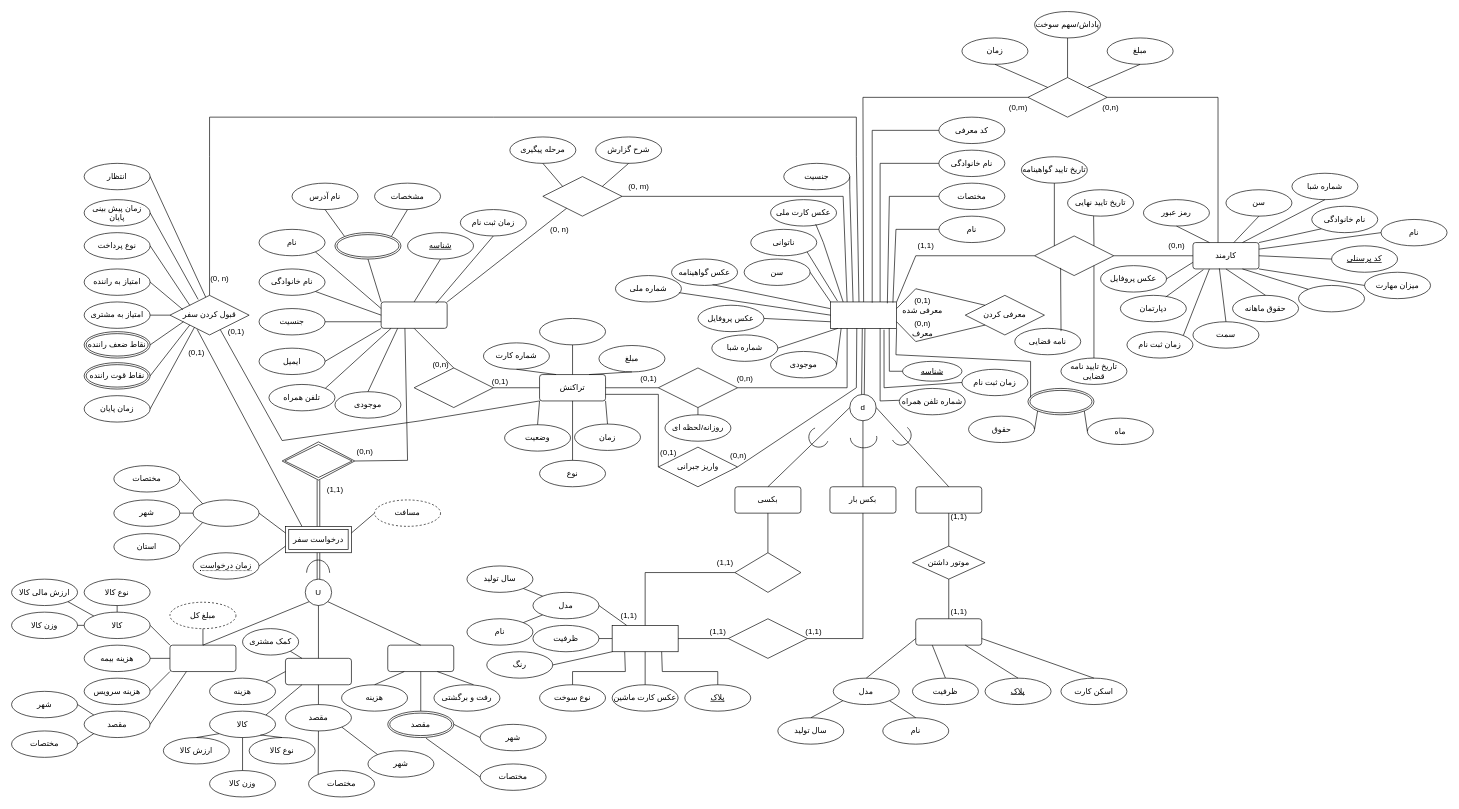
Some shapes in this 1459 by 809 pixel diagram are drawn without their labels. The shapes that lost their labels are listed below. From the top down, each one's centre as x and y in pixels, then its label:
(1067,97): واریز از شرکت
(582,196): گزارش دادن
(367,245): آدرس
(1074,255): تایید کردن
(413,314): مشتری
(863,314): راننده
(1331,298): مدرک تحصیلی
(572,331): کد رهگیری
(453,387): واریز کردن
(698,387): برداشت کردن
(1060,401): حقوق ماهیانه
(318,460): درخواست دادن
(225,512): مبدا
(948,499): بکسی باکس
(767,572): ماشین داشتن
(644,638): ماشین
(768,638): ماشین باری داشتن
(948,631): موتور
(202,658): حمل و نقل سبک
(318,671): حمل و نقل سنگین
(420,658): مسافرکشی
